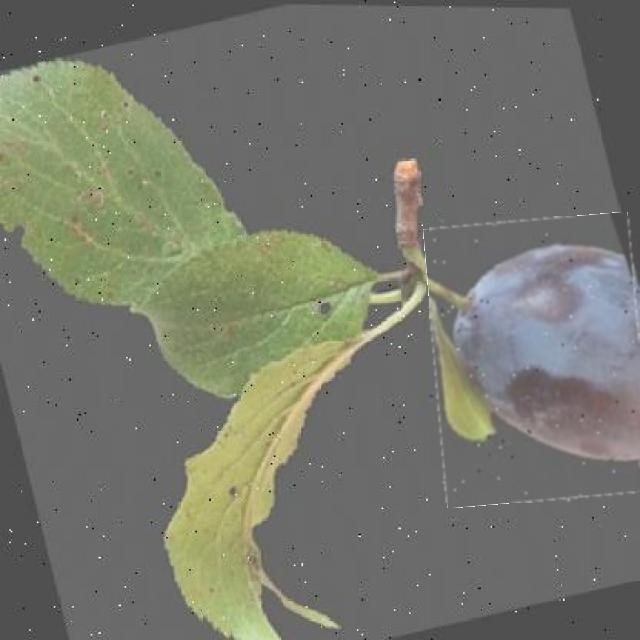plum: (429, 216, 640, 503)
